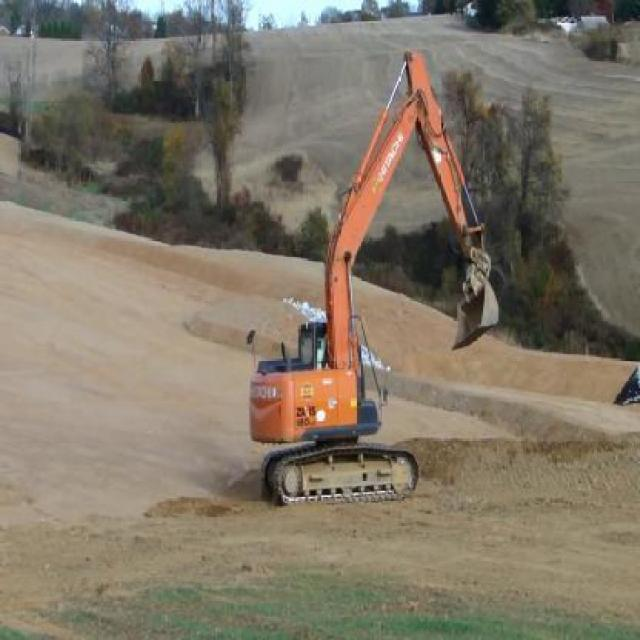Excavator: (242, 39, 508, 502)
